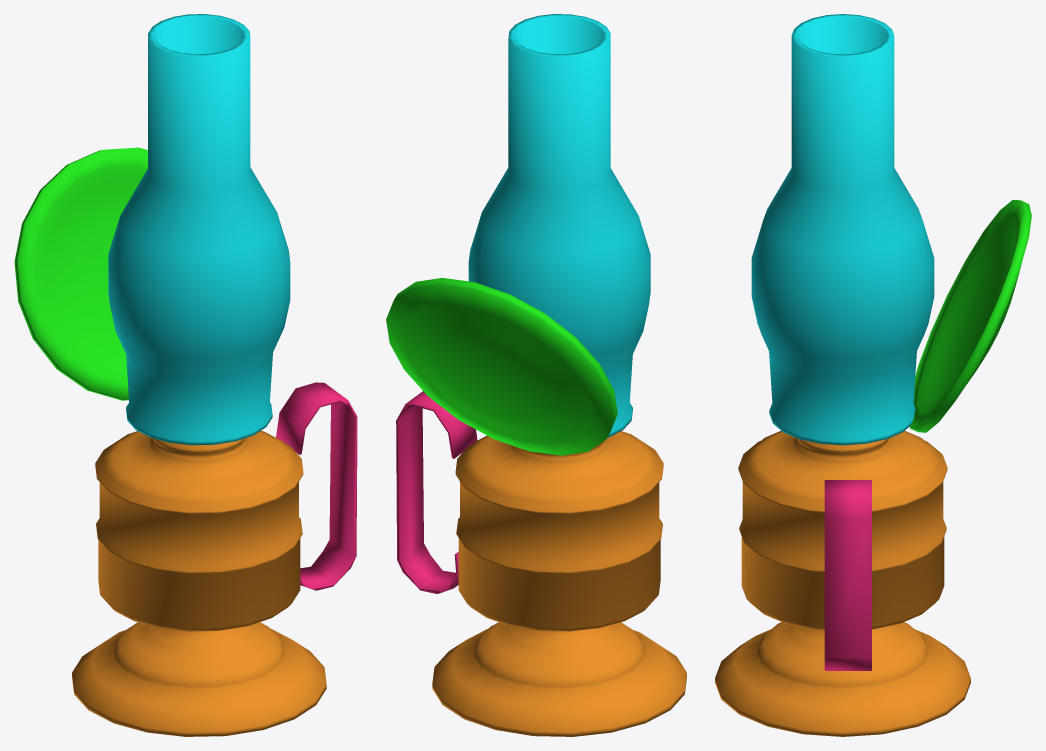
File: J_Oil_Lamp(v2).fbx
3 renders of one model, left to right at view 1: azimuth 30°, elevation 25°; view 2: azimuth 150°, elevation 25°; view 3: azimuth 270°, elevation 25°, orthographic.
Parts seen in each view (by area): view 1: HandheldOilLamp_TESTING; view 2: HandheldOilLamp_TESTING; view 3: HandheldOilLamp_TESTING.
Part boxes in pixels (bbox=[...]): HandheldOilLamp_TESTING: bbox=[14, 14, 357, 736]; HandheldOilLamp_TESTING: bbox=[386, 14, 686, 736]; HandheldOilLamp_TESTING: bbox=[715, 14, 1031, 736].
Size of the model in its own units: 48.84 by 114 by 50.64.
